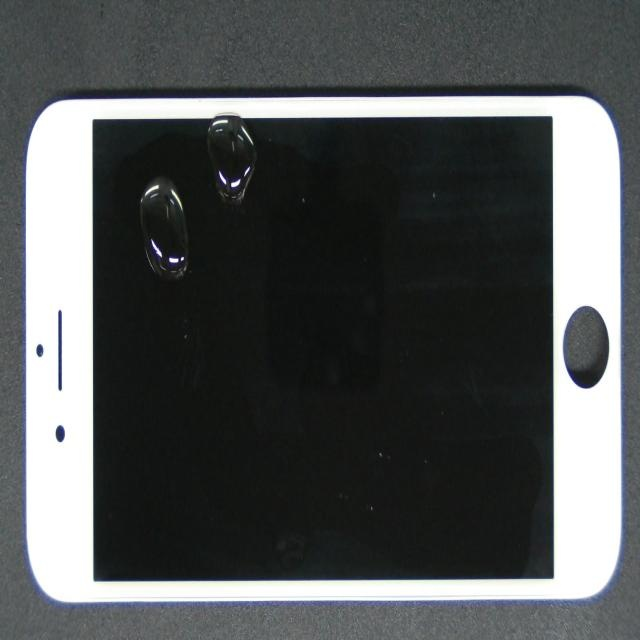oil: (118, 12, 329, 201), (117, 144, 277, 314)
